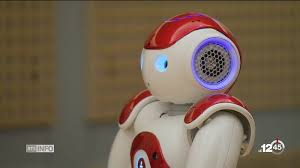nao: (99, 10, 262, 166)
